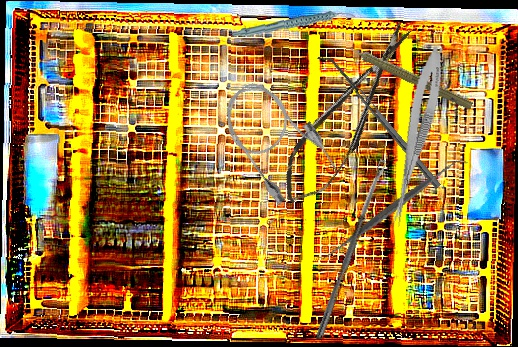Cannula: (210, 67, 343, 212)
Handpiece: (339, 36, 476, 113), (232, 5, 355, 45)
Micro Scissor: (267, 16, 431, 214), (385, 44, 450, 230)
Spatula Surgical: (315, 131, 468, 288), (316, 49, 442, 194)
Surgical Spoon: (315, 158, 388, 342)
